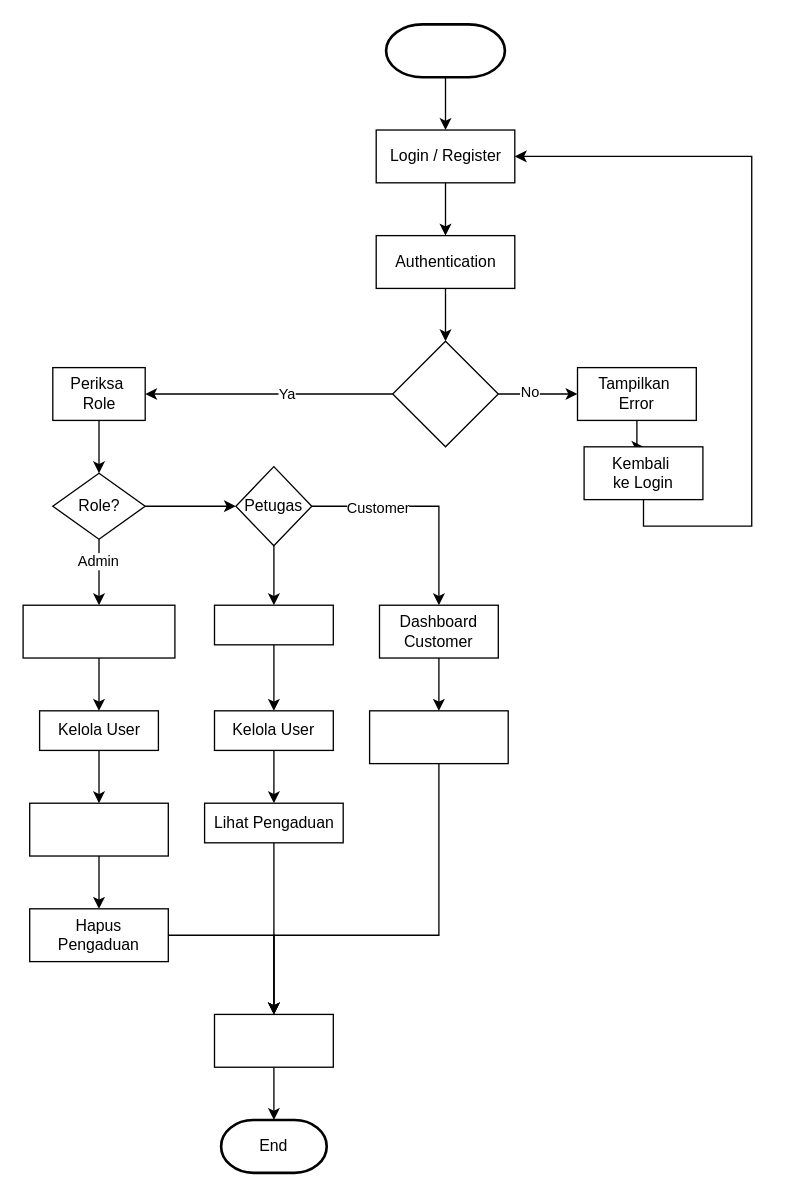
This 785x1196 diagram has some shape labels left out. The shapes that lost their labels are listed below. From the top down, each one's box as (x1, y1, x2, y2) in pixels, then its label:
(384, 22, 506, 78): Start
(391, 340, 498, 447): Login Valid?
(22, 604, 175, 658): Dashboard Admin
(213, 604, 333, 645): Dashboard Petugas
(368, 710, 508, 764): Buat Pengaduan Sendiri
(28, 802, 168, 856): Kelola Semua Pengaduan
(213, 1013, 333, 1067): Database
